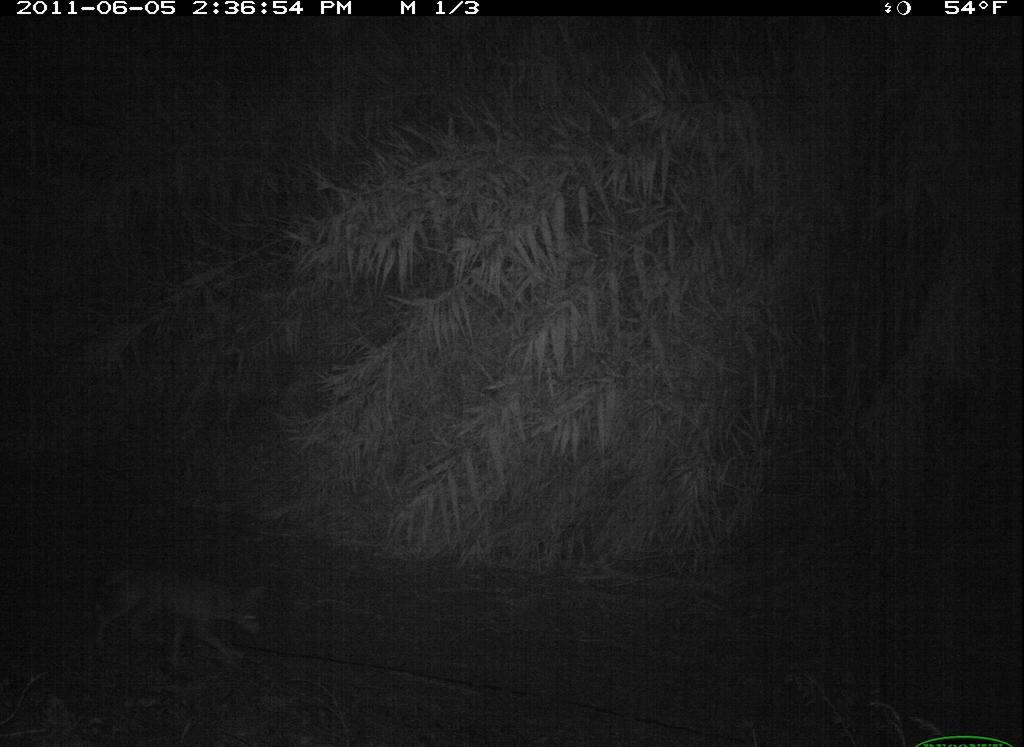coyote: (79, 551, 273, 688)
